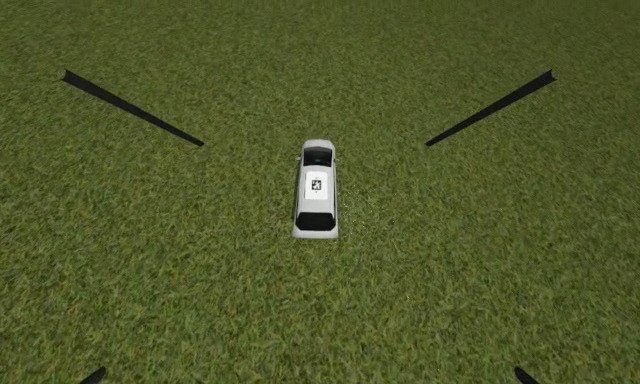Car: (296, 138, 338, 239)
Landing Pad: (306, 171, 328, 201)
